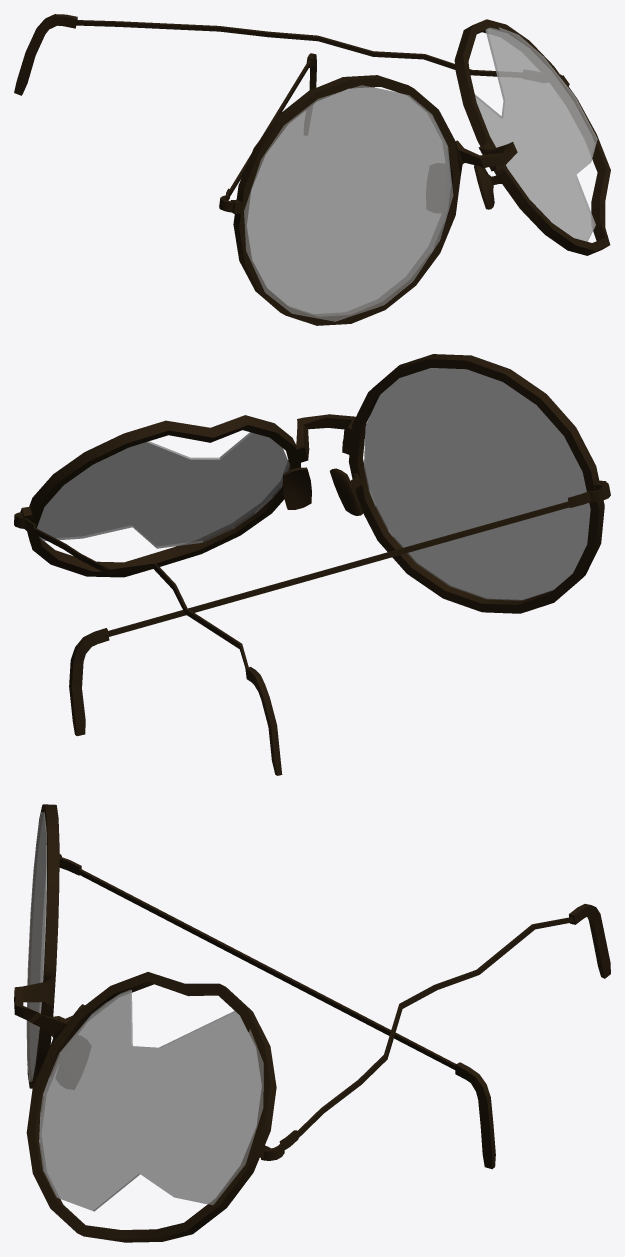
The model's file is glasses.fbx.
The picture shows the model from 3 angles, top to bottom: view 1: azimuth 30°, elevation 25°; view 2: azimuth 150°, elevation 25°; view 3: azimuth 270°, elevation 25°; orthographic projection. The views are drawn at different scales.
Parts seen in each view (by area): view 1: pCylinder2, pPipe3, pCylinder1, pCube1, pCube2, pCube4; view 2: pCylinder2, pPipe3, pCylinder1, pCube2, pCube1, pCube4, pCube3; view 3: pCylinder1, pPipe3, pCube2, pCube1, pCylinder2.
Part boxes in pixels (box(x1,y1,x2,y2)): pCylinder2: box(244, 85, 453, 321); pPipe3: box(230, 19, 610, 325); pCylinder1: box(475, 27, 597, 241); pCube1: box(14, 14, 561, 95); pCube2: box(219, 53, 316, 212); pCube4: box(474, 165, 501, 209); pCylinder2: box(364, 368, 590, 600); pPipe3: box(20, 354, 606, 613); pCylinder1: box(37, 432, 289, 548); pCube2: box(69, 482, 610, 736); pCube1: box(14, 512, 282, 775); pCube4: box(282, 467, 311, 509); pCube3: box(330, 468, 362, 515); pCylinder1: box(39, 989, 263, 1211); pPipe3: box(14, 804, 276, 1242); pCube2: box(59, 854, 495, 1169); pCube1: box(261, 904, 610, 1160); pCylinder2: box(26, 812, 46, 1081).
Bounding box in the file's own units: 29.05 × 15.15 × 29.99.
